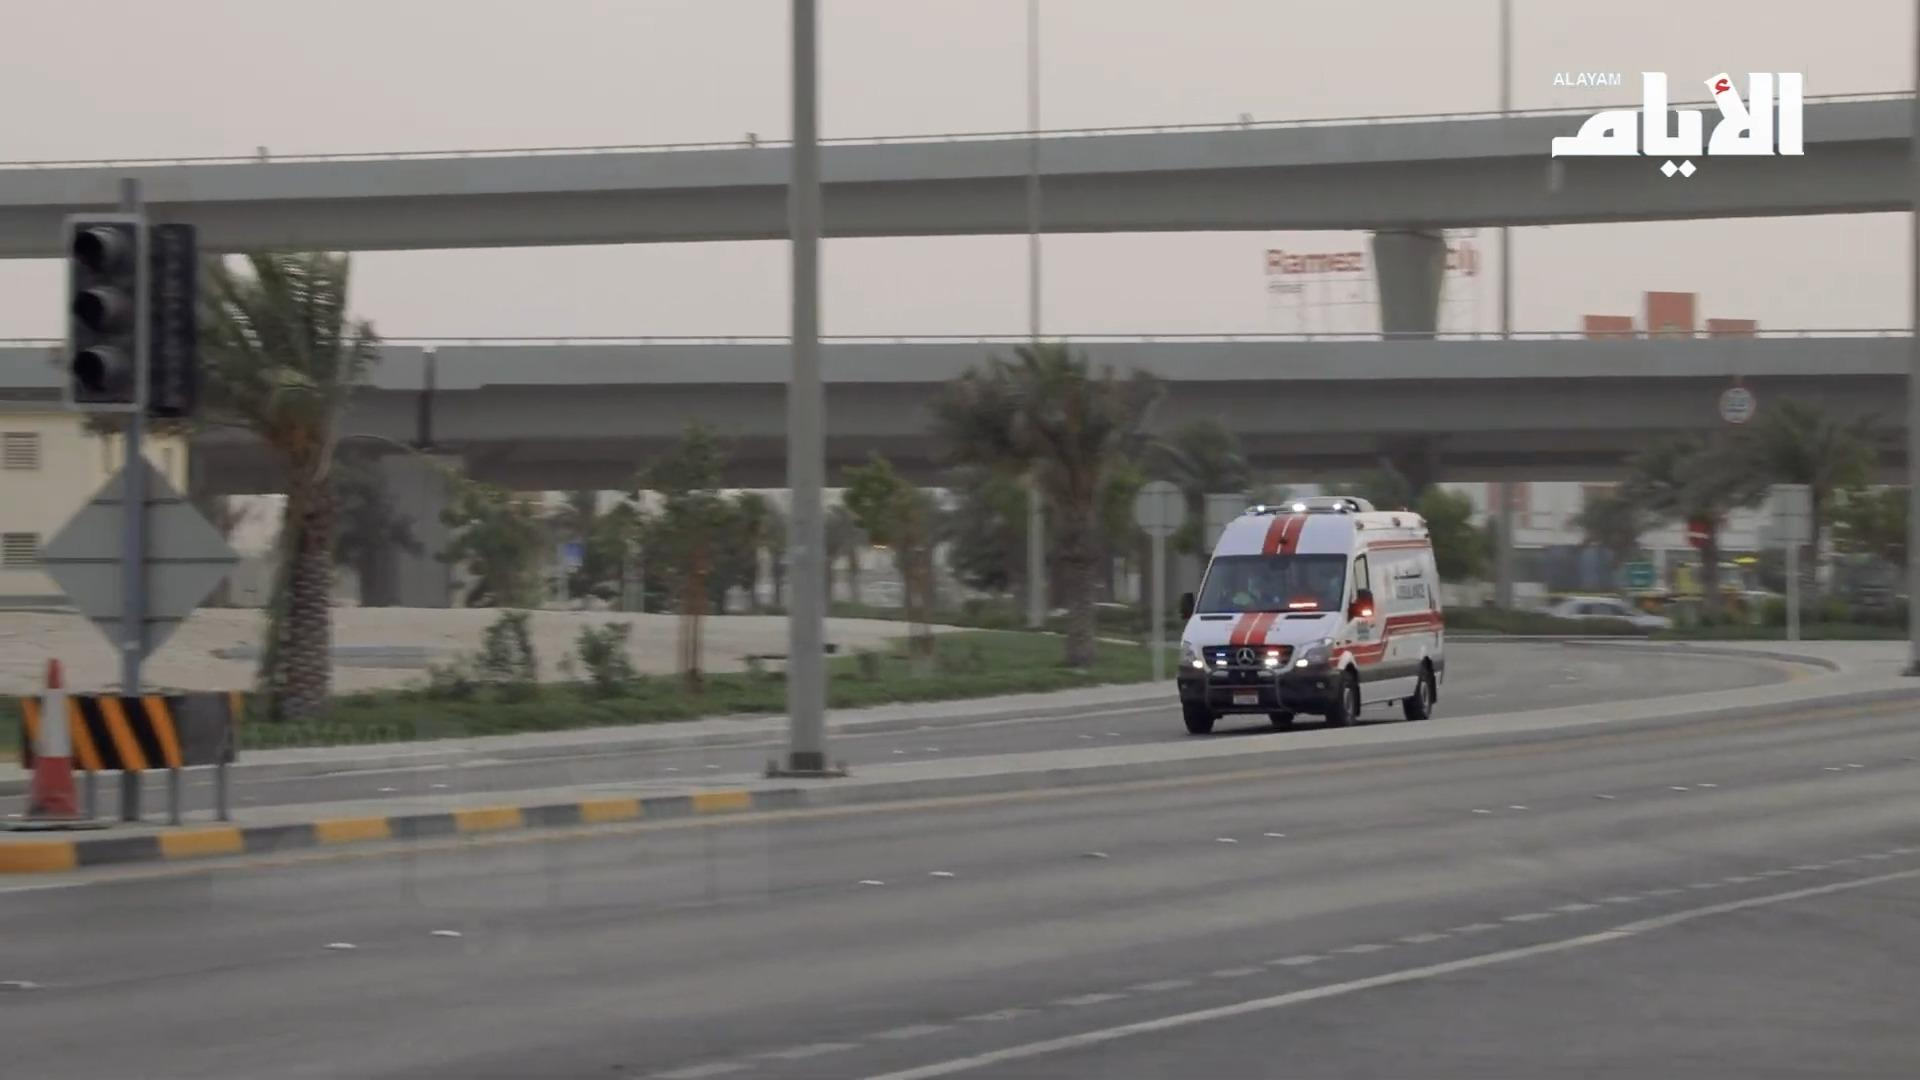ambulance_on: (1179, 500, 1444, 733)
